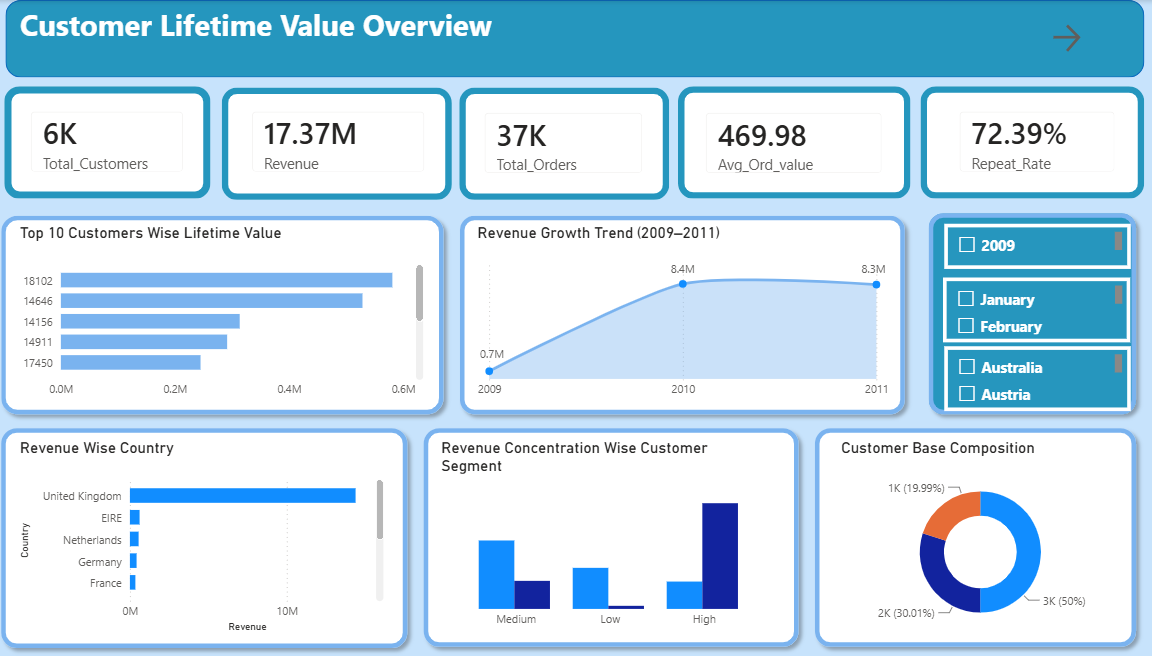

Layout of this report page (visuals, bound fields, positions):
{"tool":"powerbi","page":{"name":"Page 1","canvas":[1280,720],"ordinal":0},"visuals":[{"type":"shape","box":[12.3,94.7,226.4,123.5],"z":0},{"type":"cardVisual","fields":{"Data":["online_retail_combined.Total_Customers"]},"box":[24.7,105.7,201.7,100.2],"z":1000},{"type":"shape","box":[251.1,96.1,252.5,123.5],"z":2000},{"type":"shape","box":[511.8,96.1,230.5,123.5],"z":3000},{"type":"shape","box":[752,94.7,255.2,123.5],"z":4000},{"type":"shape","box":[1018.2,94.7,245.6,123.5],"z":5000},{"type":"cardVisual","fields":{"Data":["online_retail_combined.Revenue"]},"box":[267.6,105.7,223.7,100.2],"z":6000},{"type":"cardVisual","fields":{"Data":["online_retail_combined.Total_Orders"]},"box":[522.8,107,207.2,100.2],"z":7000},{"type":"cardVisual","fields":{"Data":["online_retail_combined.Avg_Ord_value"]},"box":[765.7,107,227.8,100.2],"z":8000},{"type":"cardVisual","fields":{"Data":["Customer.Repeat_Purchase_Rate"]},"box":[1044.3,105.7,204.5,100.2],"z":9000},{"type":"shape","box":[0,227.8,503.6,236],"z":10000},{"type":"clusteredBarChart","title":"Top 10 Customers Wise Lifetime Value","fields":{"Y":["online_retail_combined.Revenue"],"Category":["Customer.Customer_ID"]},"box":[24.7,245.6,452.8,200.3],"z":11000},{"type":"shape","box":[503.6,227.8,506.3,236],"z":12000},{"type":"lineChart","title":"\tRevenue Growth Trend (2009–2011)","fields":{"Y":["online_retail_combined.Revenue"],"Category":["online_retail_combined.InvoiceDate.Variation.Date Hierarchy.Year"]},"box":[526.9,245.6,461.1,200.3],"z":13000},{"type":"shape","box":[463.8,461.1,429.5,258],"z":14000},{"type":"shape","box":[0,461.1,463.8,259.3],"z":15000},{"type":"clusteredBarChart","title":"Revenue Wise Country","fields":{"Category":["online_retail_combined.Country"],"Y":["online_retail_combined.Revenue"]},"box":[25,481.4,409,217],"z":17000},{"type":"shape","box":[893.3,461.1,370.5,258],"z":18000},{"type":"donutChart","title":"Customer Base Composition","fields":{"Category":["Customer.CLV_Segment"],"Y":["online_retail_combined.Total_Customers"]},"box":[926.2,481.6,315.6,216.8],"z":19000},{"type":"shape","box":[13.7,0,1250.1,85.1],"z":20000},{"type":"textbox","box":[24.7,0,529.7,85.1],"z":21000},{"type":"actionButton","box":[1158.2,22,53.5,39.8],"z":22000},{"type":"shape","box":[1018.2,225,245.6,238.8],"z":23000},{"type":"clusteredColumnChart","title":"Revenue Concentration Wise Customer Segment","fields":{"Category":["Customer.CLV_Segment"],"Y":["online_retail_combined.Pct_of_Total_Customers","online_retail_combined.Pct_of_Total_Revenue"]},"box":[487.1,481.6,381.5,216.8],"z":24000},{"type":"slicer","fields":{"Values":["online_retail_combined.InvoiceDate.Variation.Date Hierarchy.Year"]},"box":[1044.3,245.6,204.5,49.4],"z":26000},{"type":"slicer","fields":{"Values":["online_retail_combined.InvoiceDate.Variation.Date Hierarchy.Month"]},"box":[1042.9,304.6,205.8,71.4],"z":27000},{"type":"slicer","fields":{"Values":["online_retail_combined.Country"]},"box":[1044.3,380.1,204.5,71.4],"z":27001}]}

Visuals, with their boxes in screenshot pixels (x1, y1, x2, y2), scaled from the page's 1280x720 canvas onto the 1152x656 screenshot:
shape: <box>11,86,215,199</box>
cardVisual - online_retail_combined.Total_Customers: <box>22,96,204,188</box>
shape: <box>226,88,453,200</box>
shape: <box>461,88,668,200</box>
shape: <box>677,86,906,199</box>
shape: <box>916,86,1137,199</box>
cardVisual - online_retail_combined.Revenue: <box>241,96,442,188</box>
cardVisual - online_retail_combined.Total_Orders: <box>471,97,657,189</box>
cardVisual - online_retail_combined.Avg_Ord_value: <box>689,97,894,189</box>
cardVisual - Customer.Repeat_Purchase_Rate: <box>940,96,1124,188</box>
shape: <box>0,208,453,423</box>
"Top 10 Customers Wise Lifetime Value" clusteredBarChart: <box>22,224,430,406</box>
shape: <box>453,208,909,423</box>
"	Revenue Growth Trend (2009–2011)" lineChart: <box>474,224,889,406</box>
shape: <box>417,420,804,655</box>
shape: <box>0,420,417,655</box>
"Revenue Wise Country" clusteredBarChart: <box>22,439,391,636</box>
shape: <box>804,420,1137,655</box>
"Customer Base Composition" donutChart: <box>834,439,1118,636</box>
shape: <box>12,0,1137,78</box>
textbox: <box>22,0,499,78</box>
actionButton: <box>1042,20,1091,56</box>
shape: <box>916,205,1137,423</box>
"Revenue Concentration Wise Customer Segment" clusteredColumnChart: <box>438,439,782,636</box>
slicer - online_retail_combined.InvoiceDate.Variation.Date Hierarchy.Year: <box>940,224,1124,269</box>
slicer - online_retail_combined.InvoiceDate.Variation.Date Hierarchy.Month: <box>939,278,1124,343</box>
slicer - online_retail_combined.Country: <box>940,346,1124,411</box>
